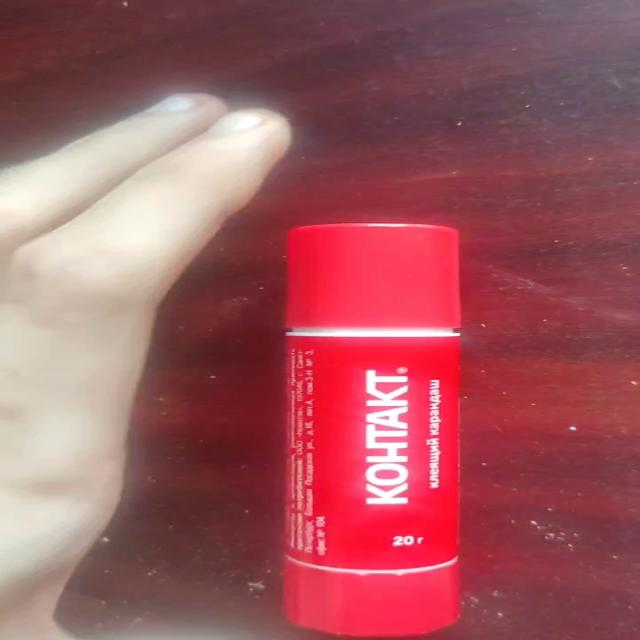glue: (280, 222, 463, 636)
